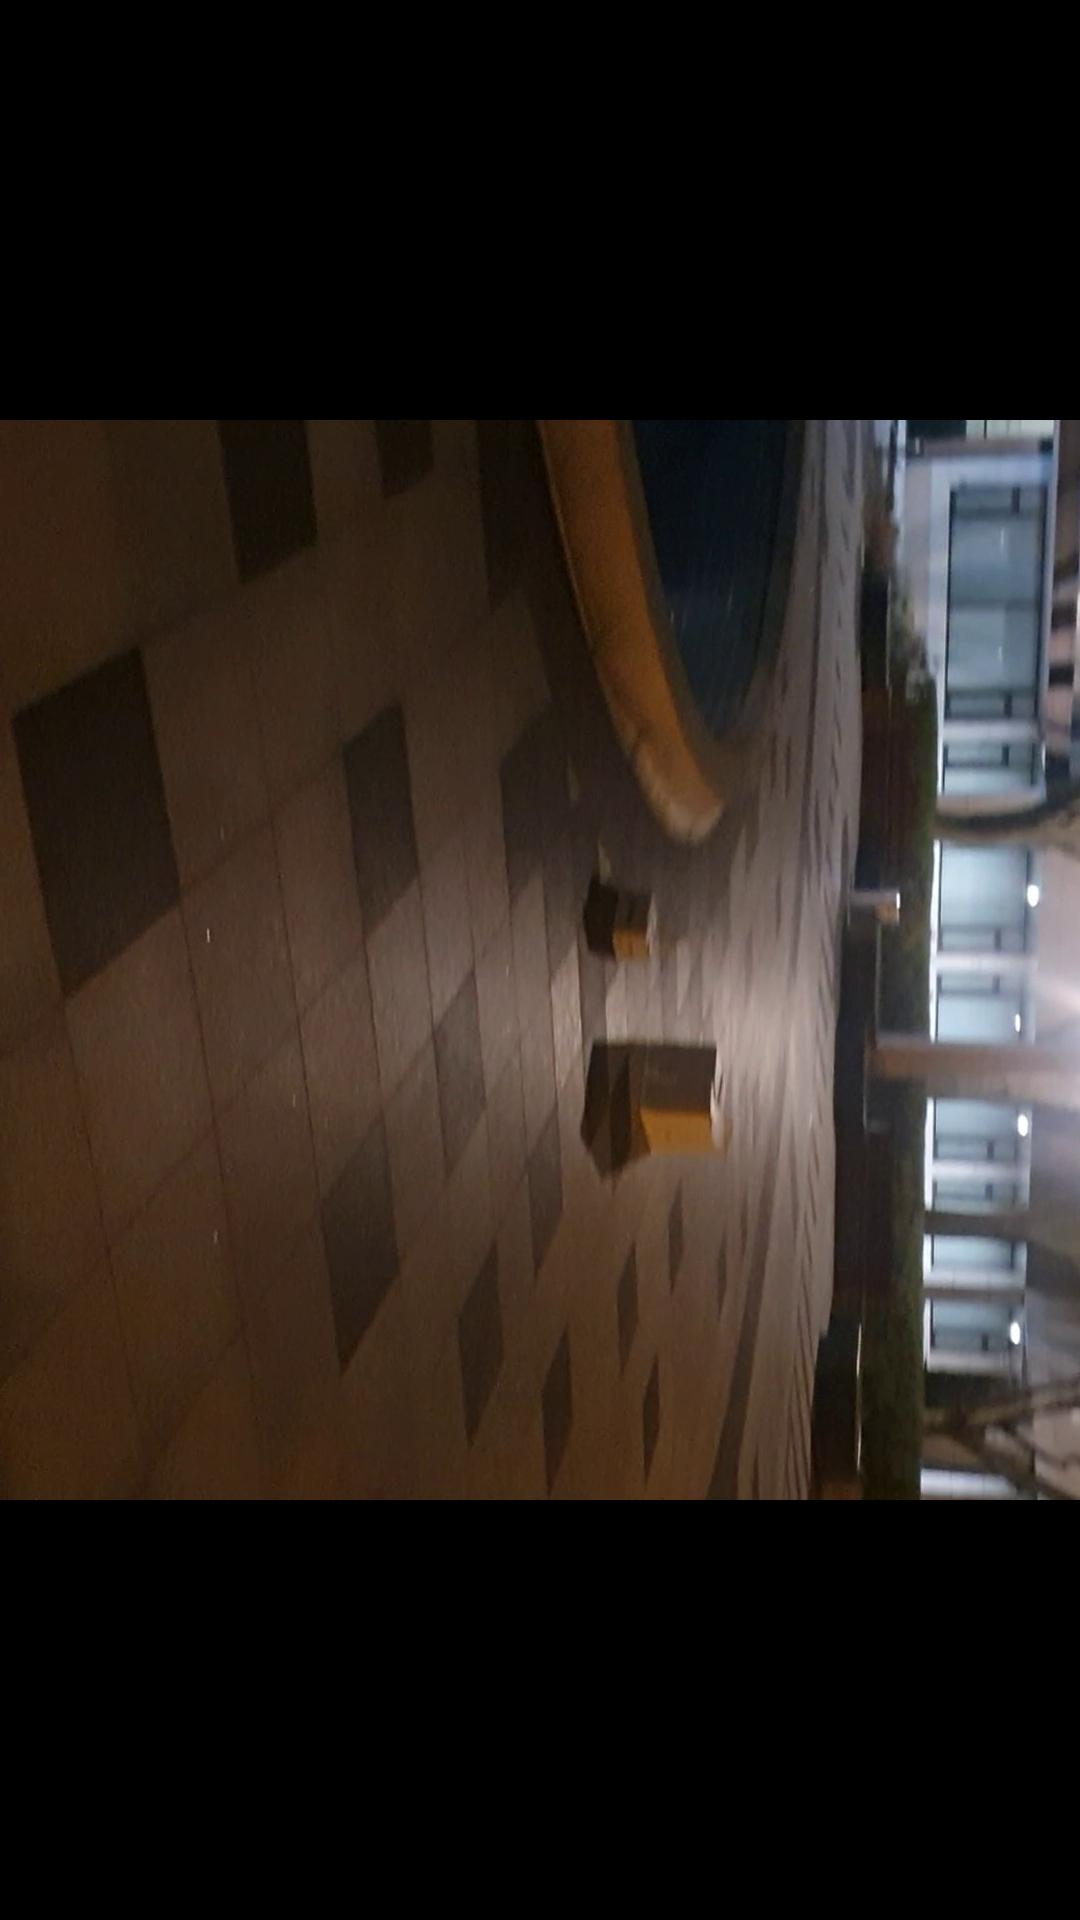Box: (611, 1033, 732, 1167), (587, 887, 673, 971)
